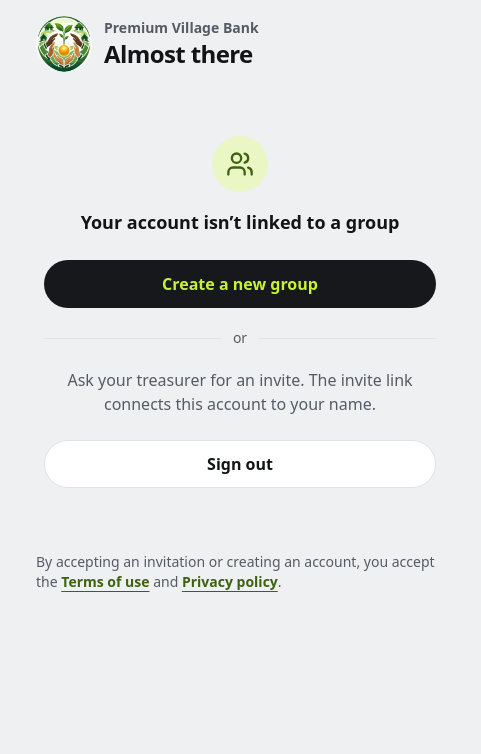
Test: when the local wipe fails it says so and does not navigate, so the person can retry
This screenshot has width=481, height=754.
Click the button "Sign out" at [240, 464], box [44, 440, 436, 488]
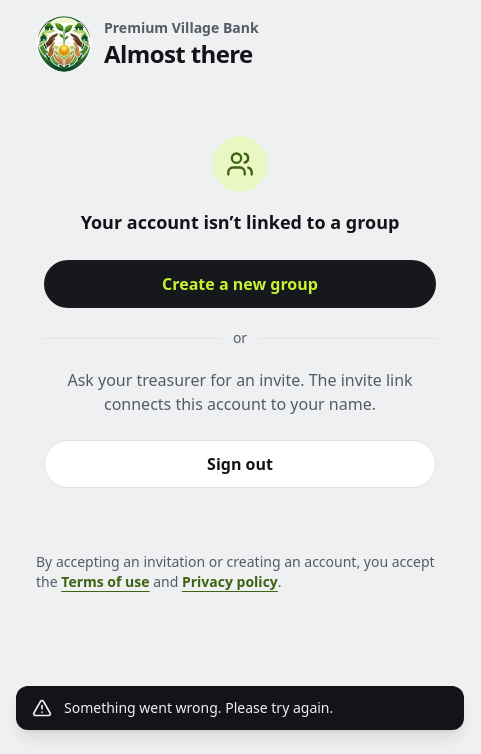
Check: the text "Something went wrong. Please try again." is shown, box [64, 698, 333, 717]
